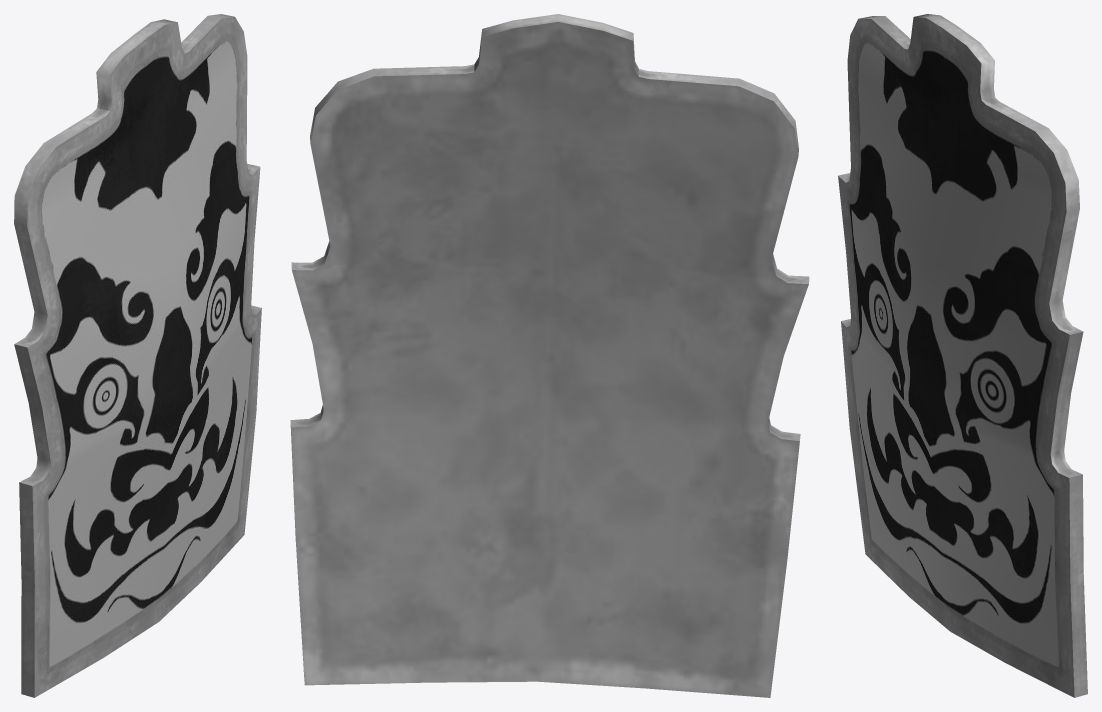
The model's file is shield-bronzeshields.glb.
The picture shows the model from 3 angles, left to right: view 1: azimuth 30°, elevation 25°; view 2: azimuth 150°, elevation 25°; view 3: azimuth 270°, elevation 25°; orthographic projection. The views are drawn at different scales.
Bounding box in the file's own units: 0.5133 × 0.8221 × 0.3099.
Materials: 1 (1 with a texture image).
